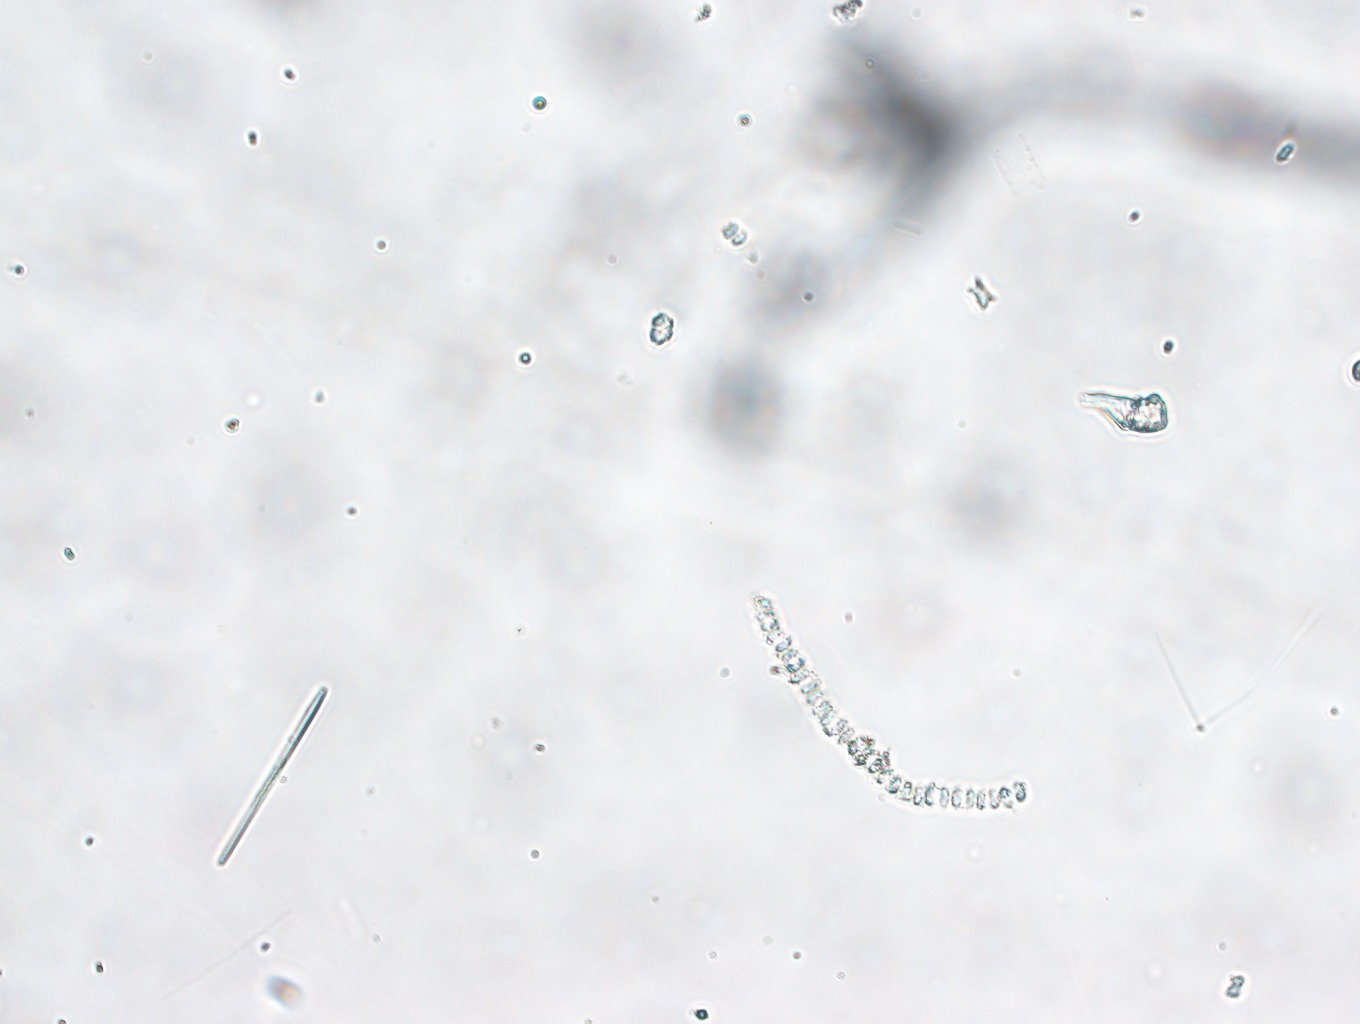skeletonema: (735, 587, 1035, 819)
